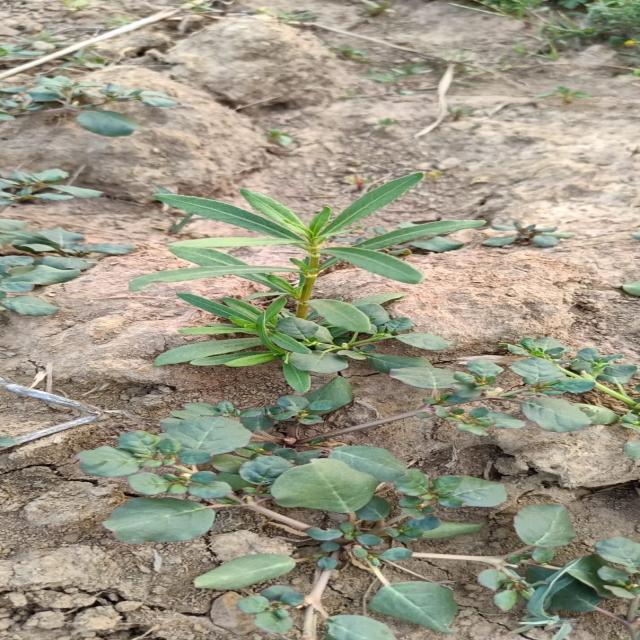plant: (127, 173, 484, 394)
